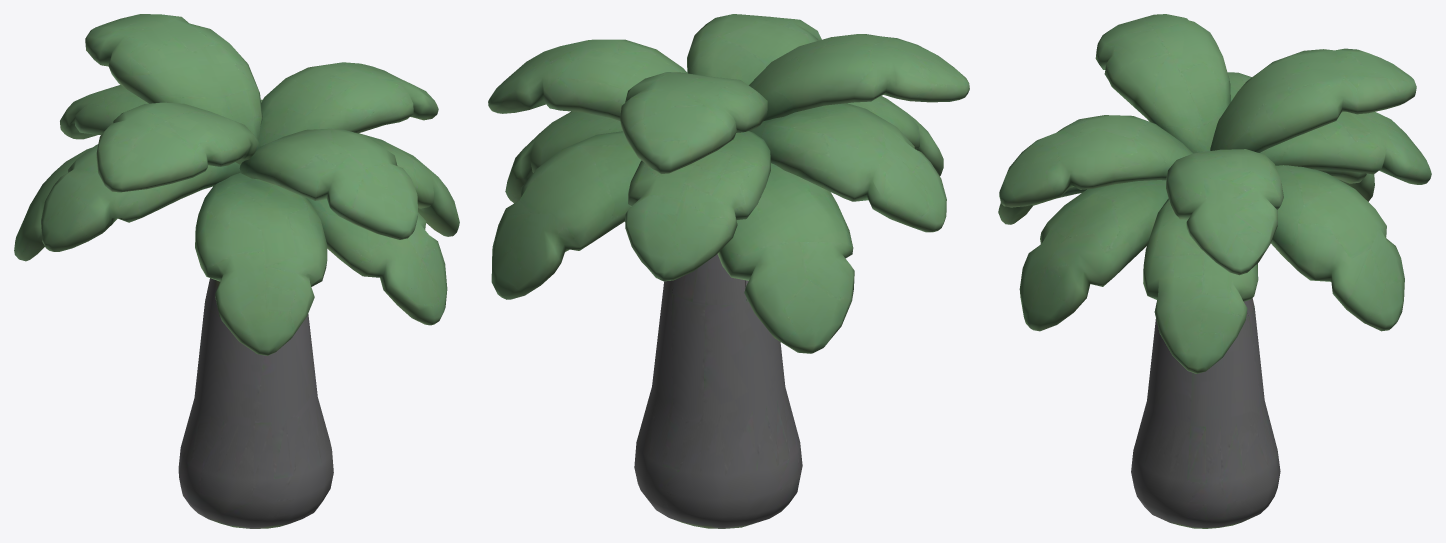
The model's file is beach-palm.glb.
The picture shows the model from 3 angles, left to right: view 1: azimuth 30°, elevation 25°; view 2: azimuth 150°, elevation 25°; view 3: azimuth 270°, elevation 25°; orthographic projection. The views are drawn at different scales.
Visible parts, largest first — view 1: geometry_0; view 2: geometry_0; view 3: geometry_0.
Part boxes in pixels (box(x1,y1,x2,y2)): geometry_0: box(14, 14, 459, 528); geometry_0: box(488, 14, 969, 528); geometry_0: box(998, 14, 1431, 528).
Bounding box in the file's own units: 0.9433 × 0.9968 × 0.9016.
1 material, 1 textured.
